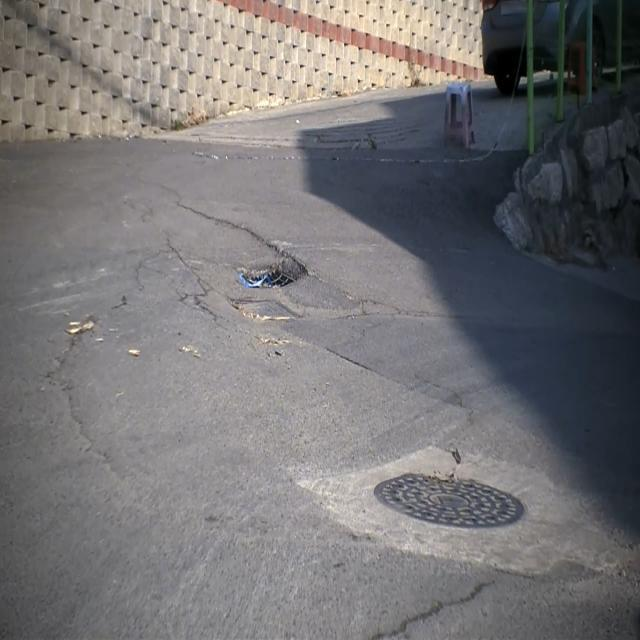Buraco: (228, 249, 317, 292)
